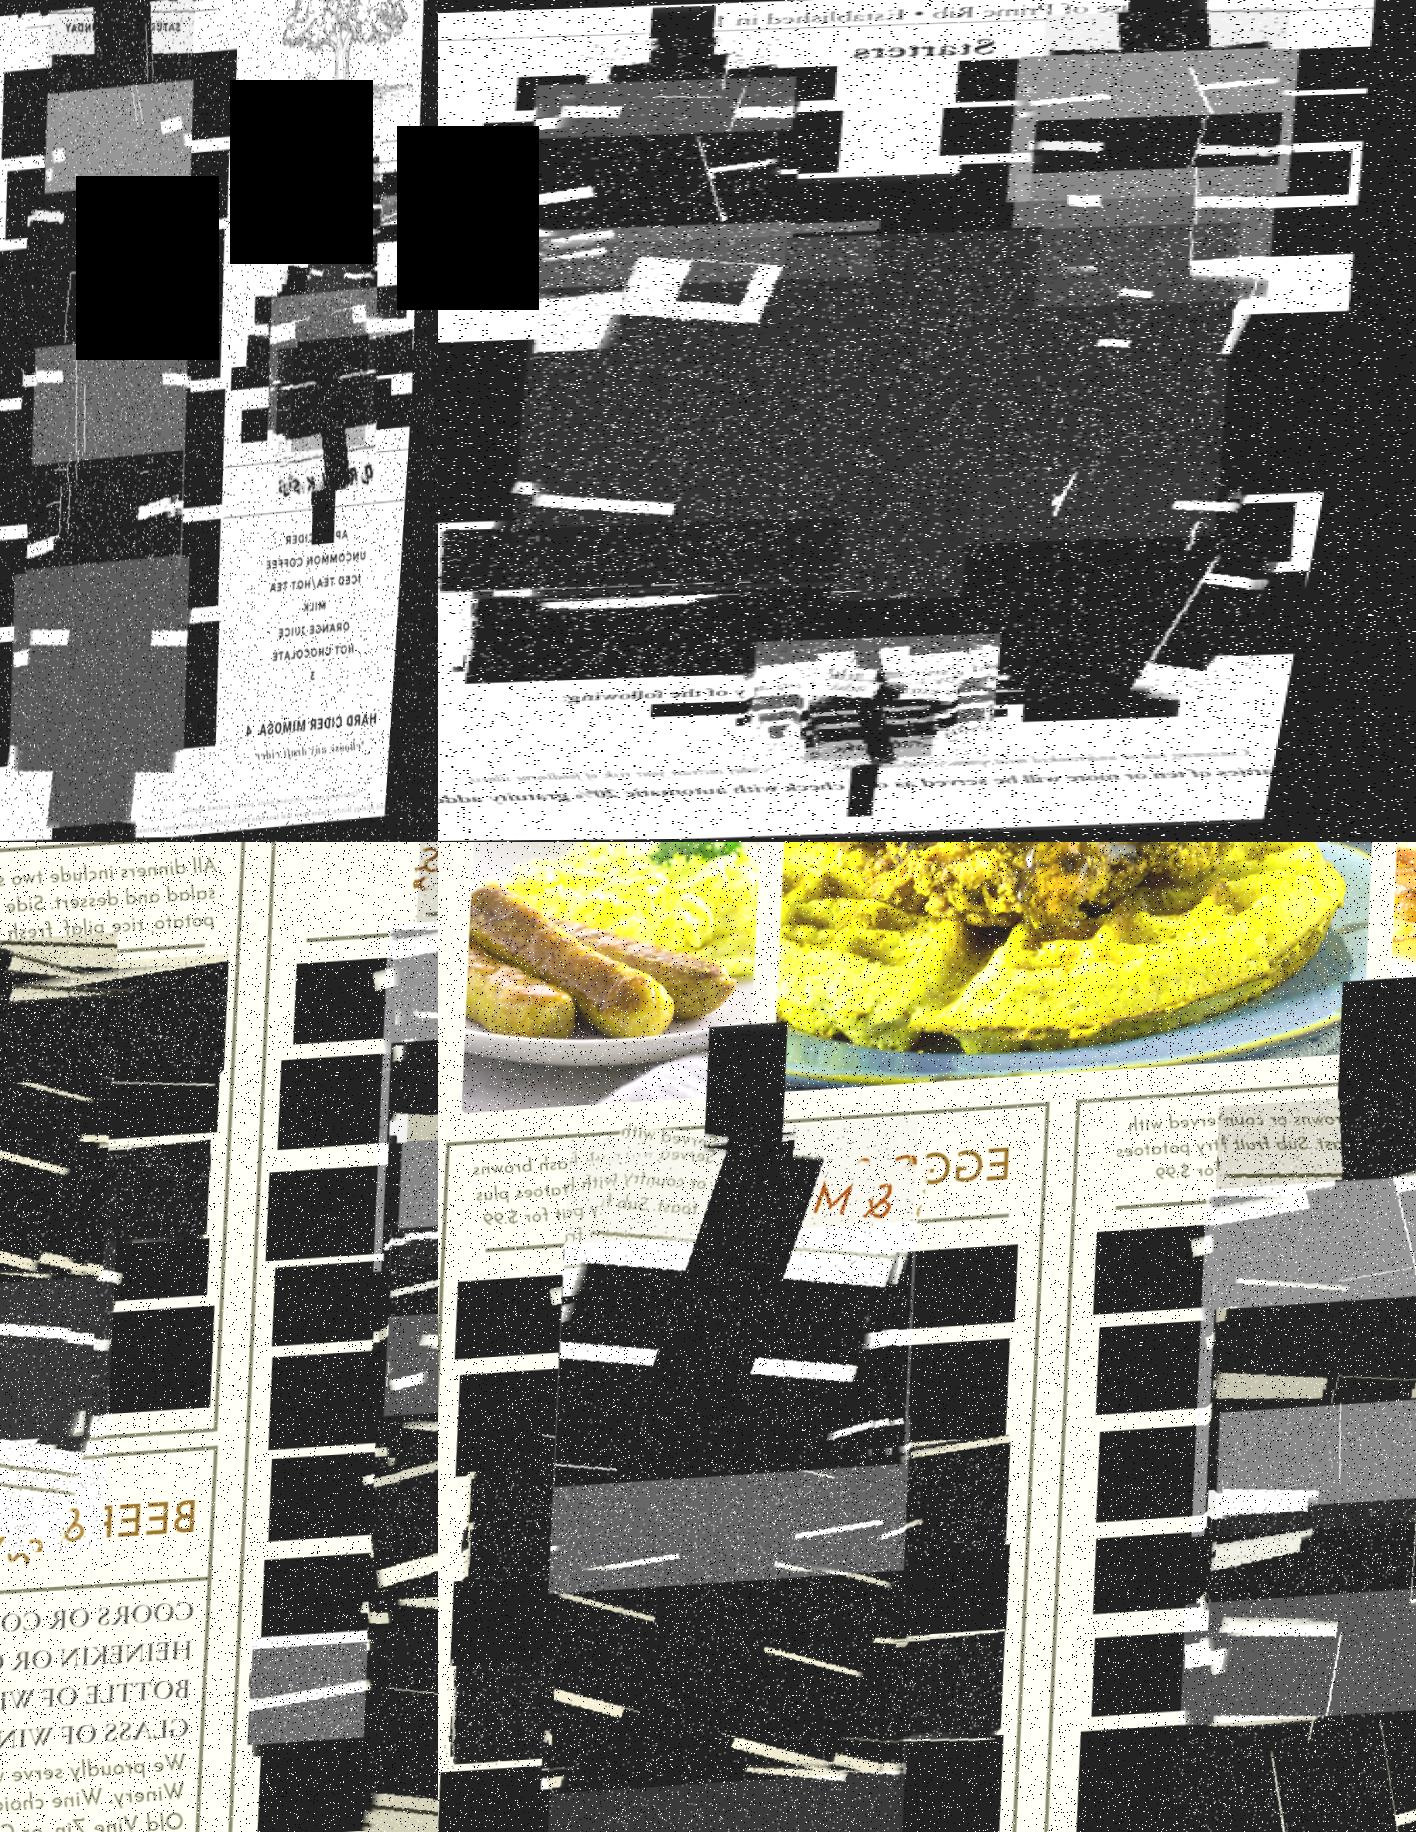Menu-Items: (492, 223, 1287, 613), (555, 1420, 953, 1795), (553, 1222, 952, 1596), (558, 1118, 952, 1488), (538, 1616, 955, 1832), (479, 1436, 1037, 1587), (1194, 1173, 1416, 1541), (464, 1631, 1035, 1771), (1205, 1292, 1416, 1634), (1206, 1494, 1416, 1832), (1209, 1088, 1416, 1426), (1214, 1396, 1416, 1725), (0, 1179, 159, 1573), (1180, 1584, 1416, 1832), (964, 537, 1304, 705), (0, 934, 152, 1303), (9, 558, 205, 833), (18, 183, 208, 448), (0, 1109, 140, 1462), (1000, 48, 1315, 204), (967, 465, 1275, 616), (513, 132, 818, 281), (24, 338, 199, 583), (1003, 165, 1298, 309), (519, 77, 812, 220), (24, 455, 195, 696), (547, 1729, 947, 1832), (776, 228, 1063, 369), (0, 956, 251, 1112), (754, 635, 1037, 773), (1020, 113, 1300, 250), (37, 82, 202, 312), (469, 587, 860, 684), (1026, 7, 1304, 143), (39, 0, 202, 220), (445, 519, 870, 598), (0, 1135, 236, 1271), (440, 222, 892, 291), (568, 34, 790, 144), (274, 1603, 437, 1746), (268, 288, 387, 457), (275, 341, 388, 500), (277, 164, 387, 320), (811, 675, 988, 761), (283, 120, 385, 263), (293, 336, 376, 454), (827, 699, 965, 767), (250, 327, 419, 376), (257, 287, 412, 332), (772, 735, 1031, 758), (269, 196, 411, 238), (303, 242, 367, 333), (306, 220, 367, 306), (312, 303, 355, 363)
